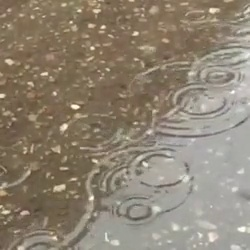drop: (131, 149, 189, 188), (108, 167, 166, 204), (64, 113, 119, 149), (171, 86, 229, 119), (6, 227, 77, 250), (1, 145, 31, 190), (198, 65, 237, 88), (117, 197, 152, 222), (186, 7, 206, 22)
